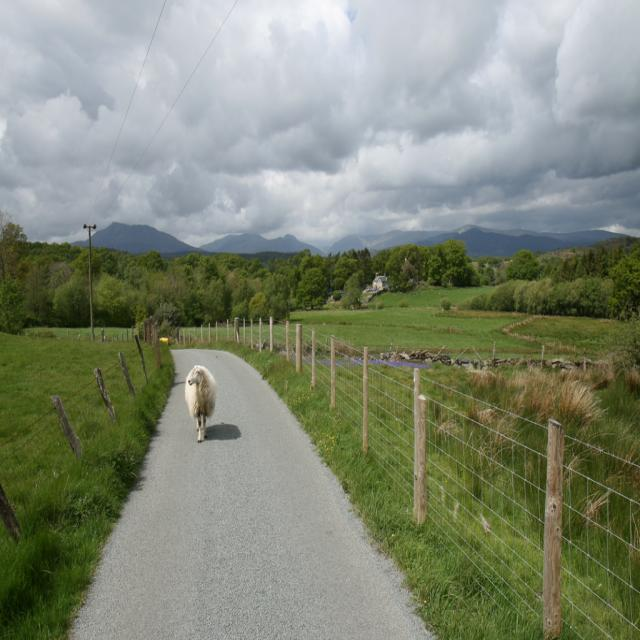Sheep: (177, 361, 214, 442)
